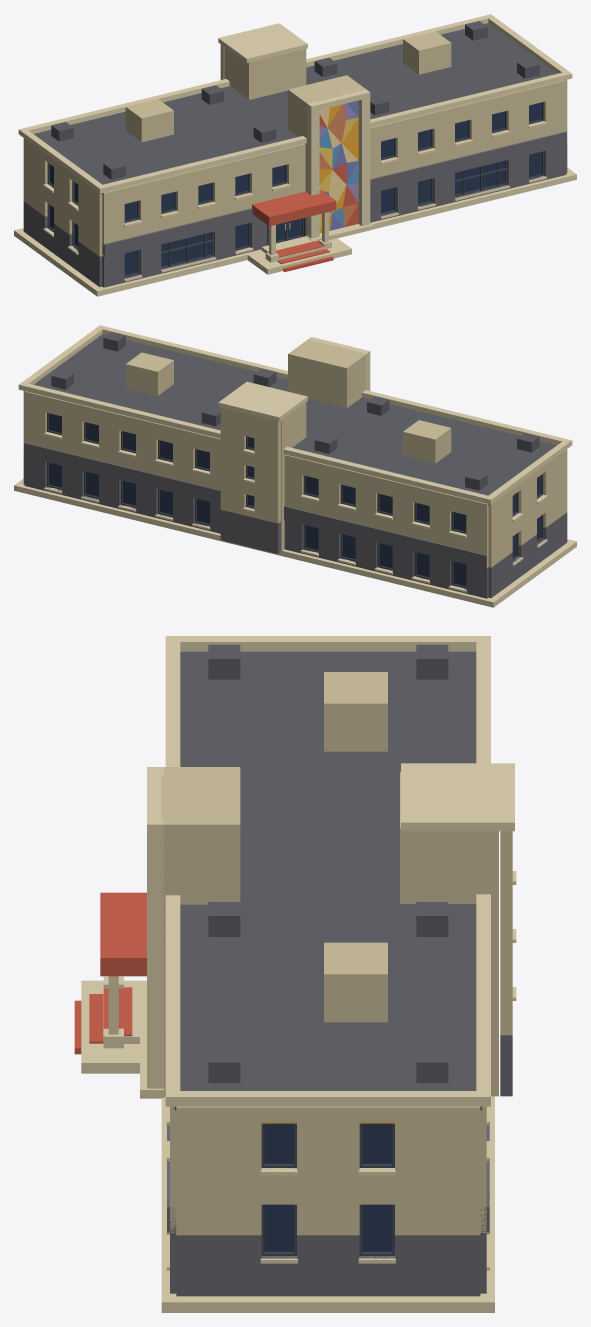
Rendered from Monty-building.fbx.
3 renders of one model, top to bottom at view 1: azimuth 30°, elevation 25°; view 2: azimuth 150°, elevation 25°; view 3: azimuth 270°, elevation 25°, orthographic. The views are drawn at different scales.
Visible parts, largest first — view 1: Roof deck_export, Front masonry 7 0_export, Front masonry 5 0_export, Story belt_export, Triangular color mural_export, Foundation plinth_export, Long roof coping_export, Rear stair tower_export, Long roof coping.001_export, Rear stair coping_export, Front tower mass_export, Entrance canopy_export (+50 smaller); view 2: Roof deck_export, Rear masonry 5 0_export, Rear masonry 3 0_export, Story belt.001_export, Foundation plinth_export, Front tower mass_export, Long roof coping.001_export, Long roof coping_export, Rear stair coping_export, Rear stair wall masonry 0 0_export, Large roof plant_export, Large roof plant.001_export (+50 smaller); view 3: Roof deck_export, East masonry 0 0_export, Front tower mass_export, East masonry 3 0_export, Rear stair tower_export, Foundation plinth_export, Rear stair coping_export, Long roof coping_export, Large roof plant.001_export, East masonry 5 0_export, Large roof plant_export, End roof coping.001_export (+26 smaller).
Boxes of the visible parts, <box> form: Roof deck_export: <box>34,23,557,194</box>; Front masonry 7 0_export: <box>102,80,566,208</box>; Front masonry 5 0_export: <box>102,117,566,252</box>; Story belt_export: <box>102,131,566,257</box>; Triangular color mural_export: <box>319,100,358,233</box>; Foundation plinth_export: <box>14,167,576,296</box>; Long roof coping_export: <box>96,71,572,193</box>; Rear stair tower_export: <box>224,47,306,99</box>; Long roof coping.001_export: <box>18,14,493,136</box>; Rear stair coping_export: <box>218,23,307,62</box>; Front tower mass_export: <box>288,75,366,235</box>; Entrance canopy_export: <box>252,190,336,226</box>; Roof deck_export: <box>33,334,556,505</box>; Rear masonry 5 0_export: <box>24,391,488,519</box>; Rear masonry 3 0_export: <box>24,428,488,567</box>; Story belt.001_export: <box>24,442,486,568</box>; Foundation plinth_export: <box>14,478,576,607</box>; Front tower mass_export: <box>288,339,365,408</box>; Long roof coping.001_export: <box>18,383,492,504</box>; Long roof coping_export: <box>97,325,572,445</box>; Rear stair coping_export: <box>218,381,307,421</box>; Rear stair wall masonry 0 0_export: <box>220,510,280,553</box>; Large roof plant_export: <box>403,420,451,463</box>; Large roof plant.001_export: <box>125,352,173,395</box>; Roof deck_export: <box>174,651,481,1110</box>; East masonry 0 0_export: <box>176,1256,480,1296</box>; Front tower mass_export: <box>161,767,240,1096</box>; East masonry 3 0_export: <box>176,1169,480,1204</box>; Rear stair tower_export: <box>400,772,498,1096</box>; Foundation plinth_export: <box>161,1096,494,1312</box>; Rear stair coping_export: <box>401,763,514,831</box>; Long roof coping_export: <box>165,636,180,1106</box>; Large roof plant.001_export: <box>324,942,387,1022</box>; East masonry 5 0_export: <box>176,1106,480,1122</box>; Large roof plant_export: <box>324,672,387,751</box>; End roof coping.001_export: <box>171,1091,485,1106</box>.
Size of the model in its own units: 2075 by 591 by 827.
